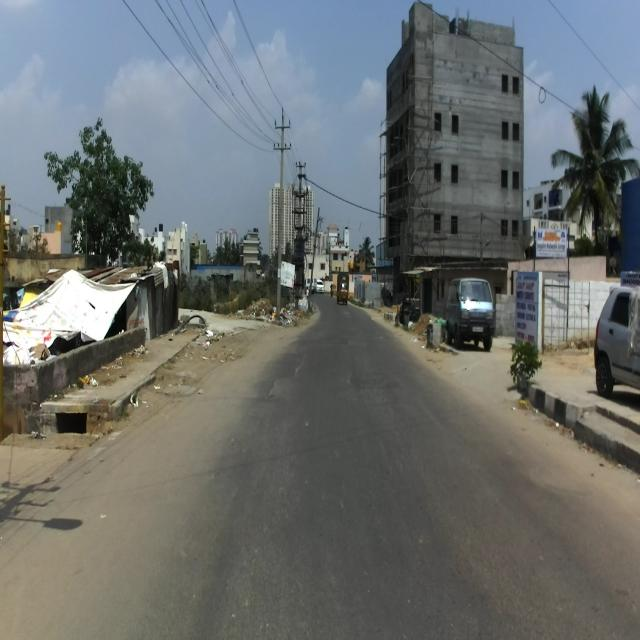car: (445, 273, 497, 352)
